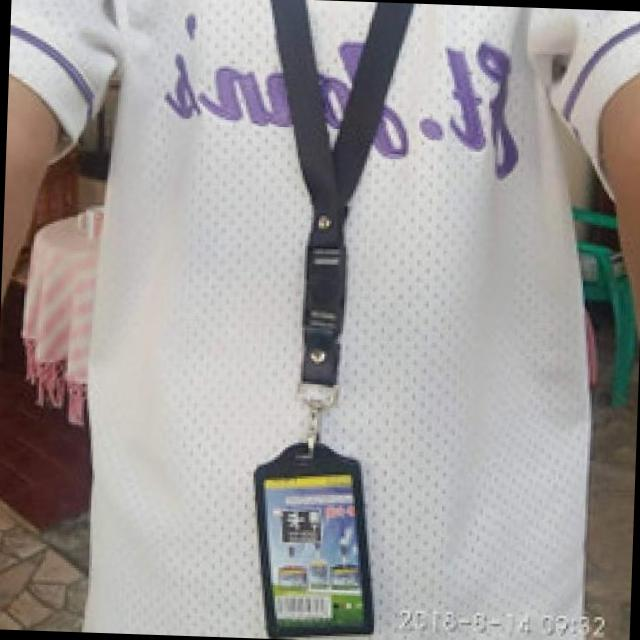id_card: (232, 0, 422, 640)
